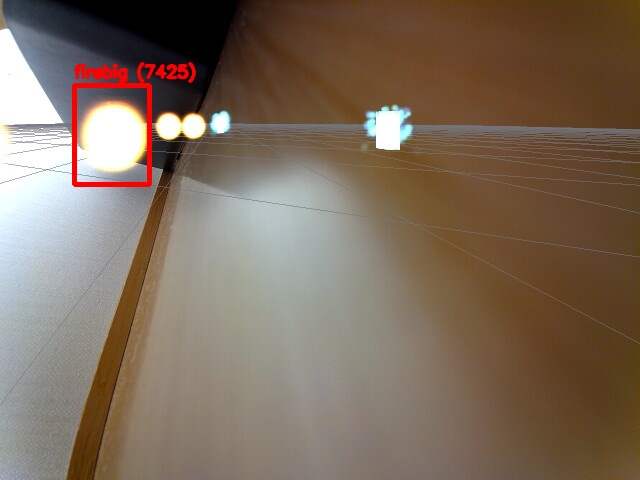firebig: (74, 85, 149, 184)
